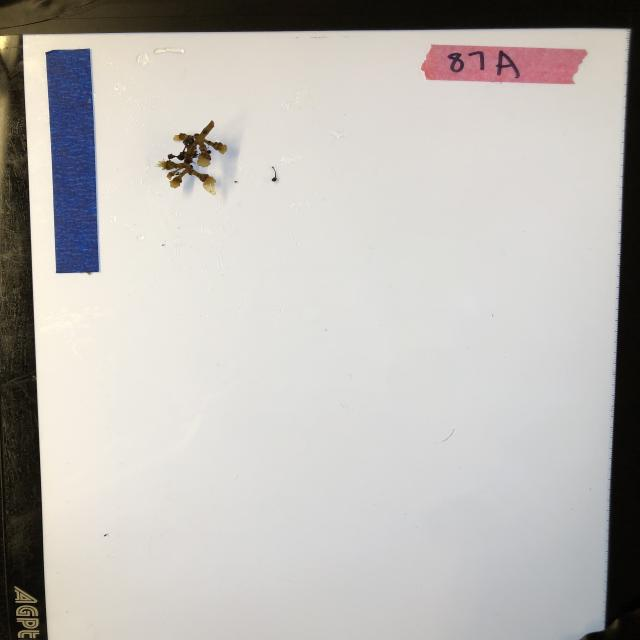index: (420, 42, 587, 86)
measure_label: (43, 46, 102, 274)
rachis_cluster: (156, 118, 232, 198)
